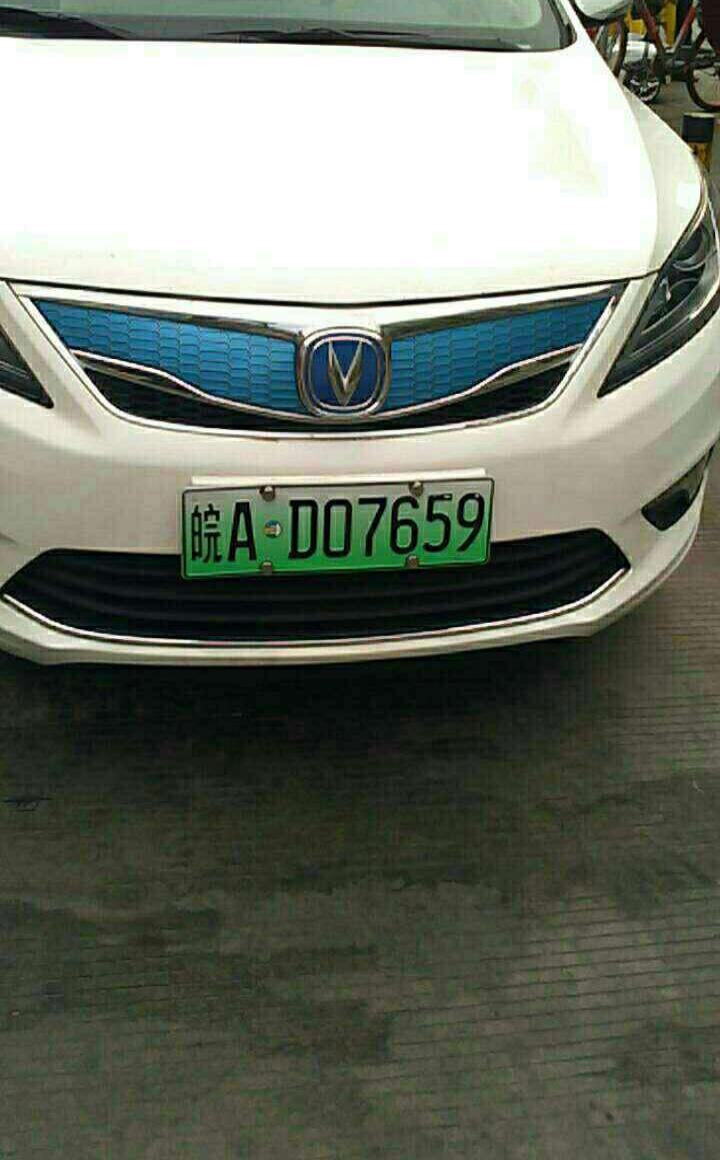car_id: (187, 482, 493, 576)
